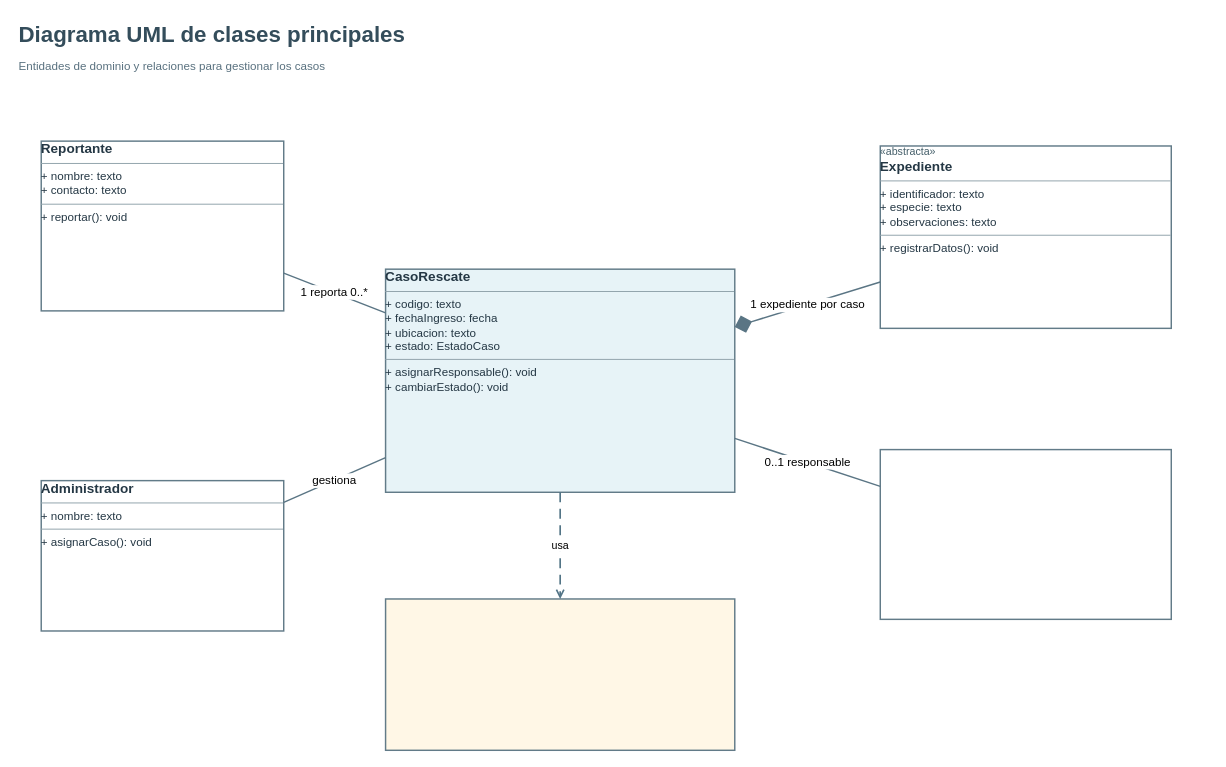
The diagram is 1226 pixels wide and 767 high, and some of its shapes have lost their labels. Each missing label, with the box of its shape:
«abstracta» Responsable + nombre: texto + contacto: texto + atenderCaso(): void: (879, 448, 1172, 620)
«enumeration» EstadoCaso RESCATADO EN_TRATAMIENTO DISPONIBLE_ADOPCION ADOPTADO: (384, 598, 735, 751)
